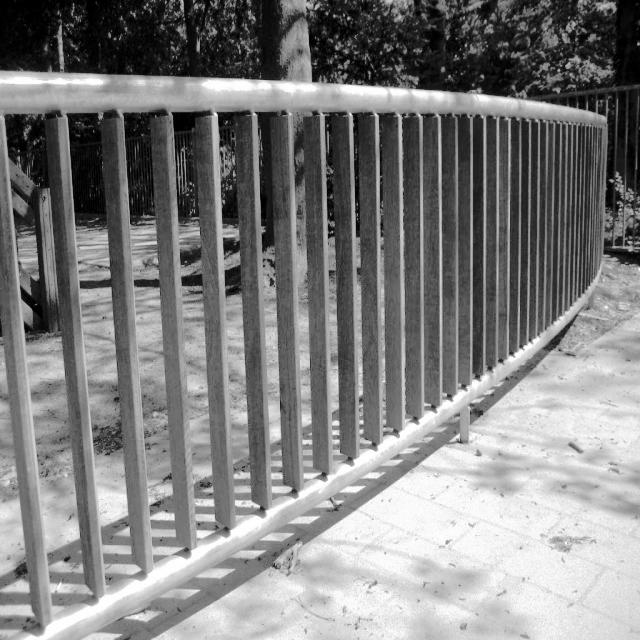fences: (19, 116, 610, 322)
